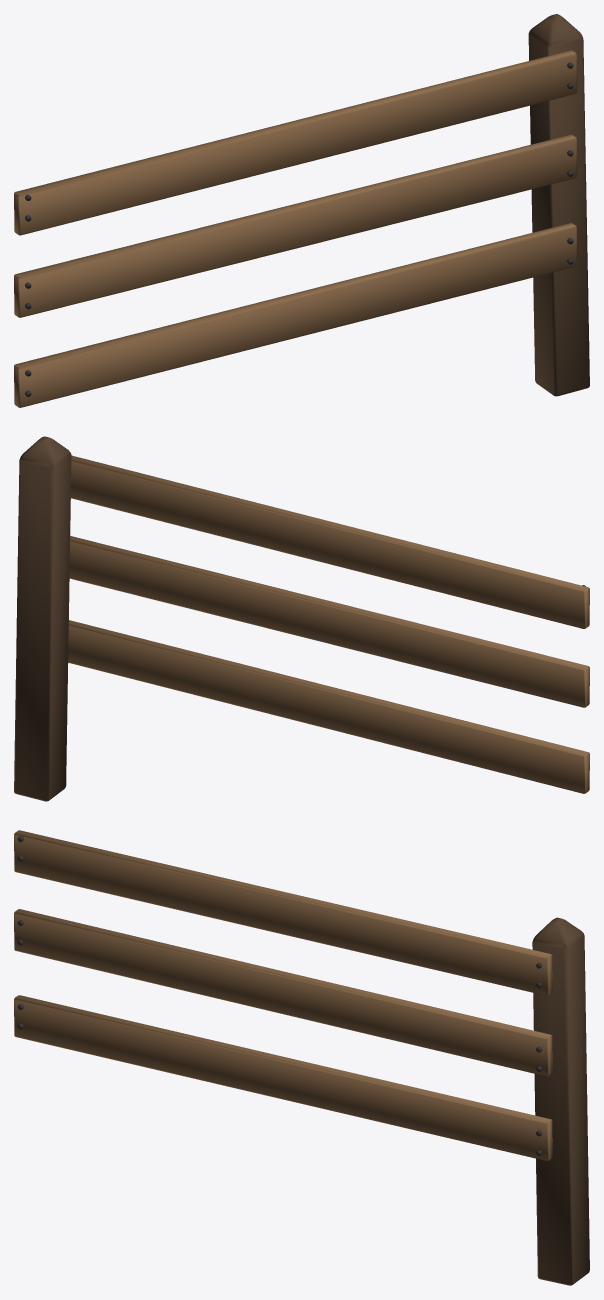
The model's file is Barriere_Section.fbx.
3 views of the same model, one above another, from view 1: azimuth 30°, elevation 25°; view 2: azimuth 150°, elevation 25°; view 3: azimuth 330°, elevation 25° (orthographic). The views are drawn at different scales.
Parts seen in each view (by area): view 1: Barriere_Section; view 2: Barriere_Section; view 3: Barriere_Section.
Boxes of the visible parts, x1=… form: Barriere_Section: x1=14, y1=14, x2=589, y2=407; Barriere_Section: x1=14, y1=436, x2=589, y2=801; Barriere_Section: x1=14, y1=830, x2=589, y2=1285.
Bounding box in the file's own units: 2.07 × 1.27 × 0.178.
